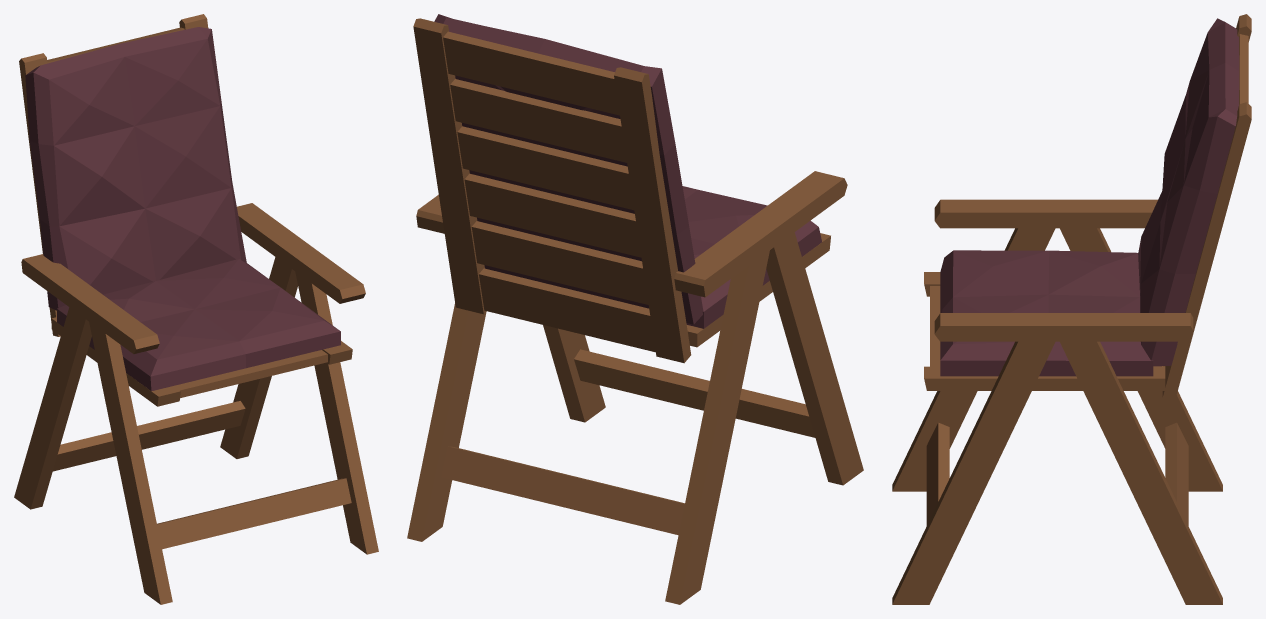
The model's file is chair-outside-wooden-cusion.fbx.
The picture shows the model from 3 angles, left to right: view 1: azimuth 30°, elevation 25°; view 2: azimuth 150°, elevation 25°; view 3: azimuth 270°, elevation 25°; orthographic projection. The views are drawn at different scales.
Visible parts, largest first — view 1: chair-outside-wooden-cusion; view 2: chair-outside-wooden-cusion; view 3: chair-outside-wooden-cusion.
Part boxes in pixels (x1,y1,x2,y2): chair-outside-wooden-cusion: (14, 14, 378, 604); chair-outside-wooden-cusion: (407, 14, 863, 604); chair-outside-wooden-cusion: (892, 14, 1251, 604).
Bounding box in the file's own units: 0.632 × 1.12 × 0.7607.
